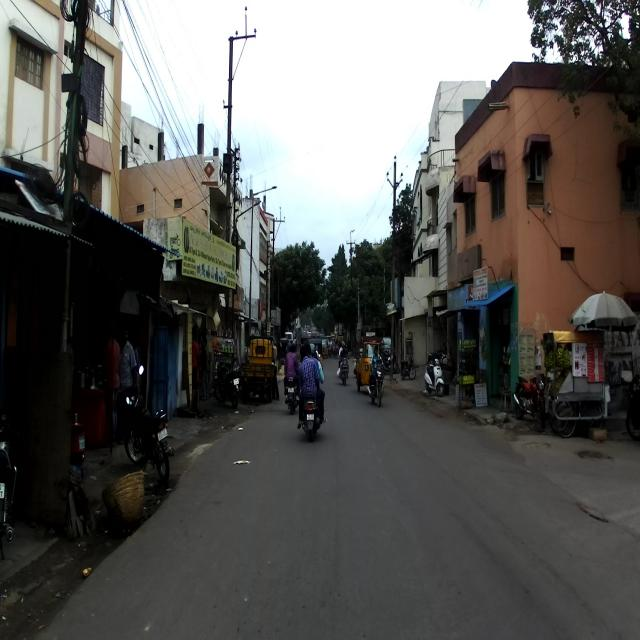motorcycle_Hero: (124, 363, 176, 484)
motorcycle_bajaj: (512, 371, 546, 428)
scooter: (296, 352, 324, 442)
